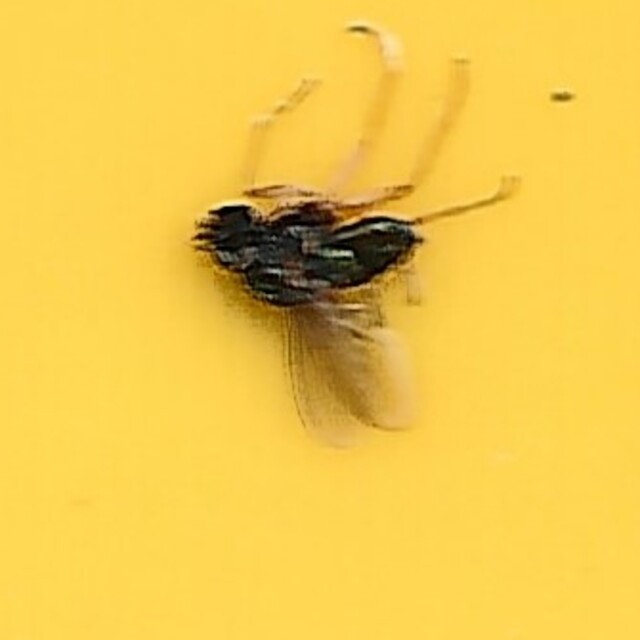Brachycera: (191, 191, 449, 449)
